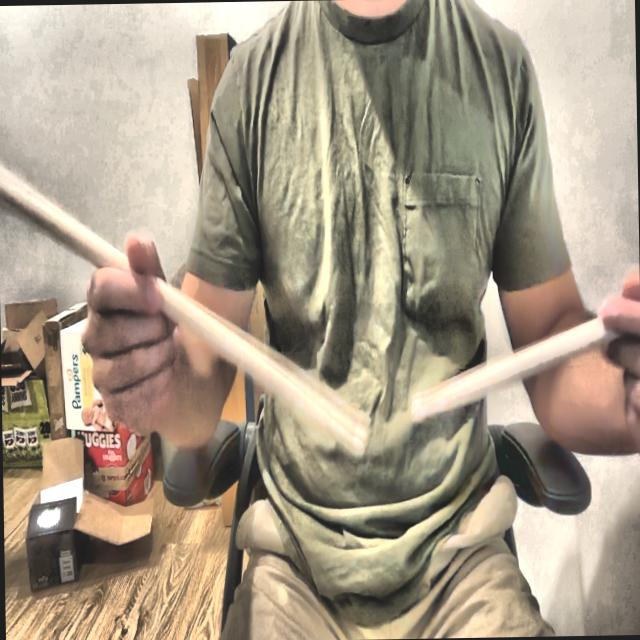Drumstick-Heads: (348, 396, 372, 462), (407, 390, 429, 422)
